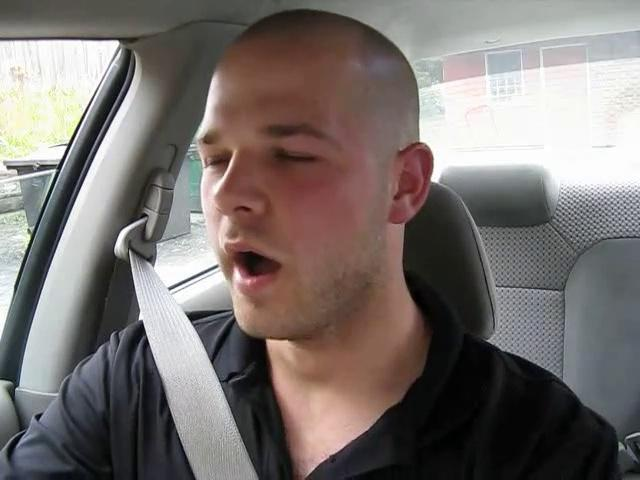close_eyeL: (188, 142, 239, 184)
close_eyeR: (251, 133, 343, 184)
yawn: (212, 238, 299, 296)
